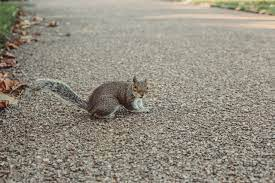squirrel: (35, 72, 153, 121)
